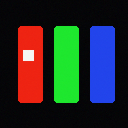1 square: (23, 50, 33, 60)
